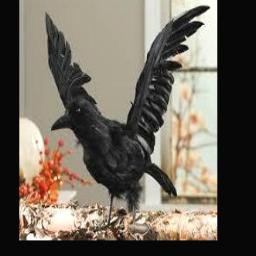Crow: (43, 3, 211, 226)
